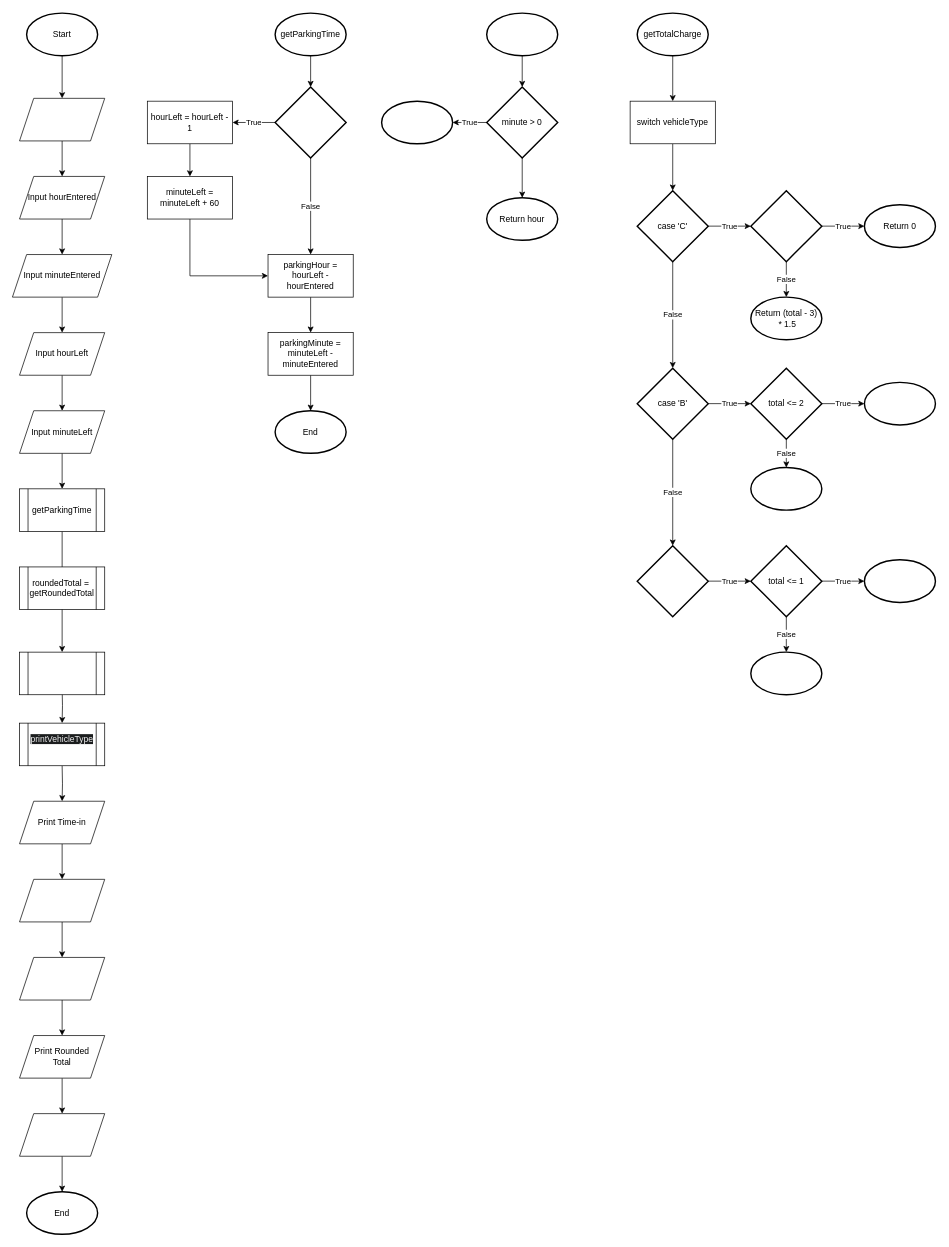
The diagram is 949 pixels wide and 1247 high, and some of its shapes have lost their labels. Here are the shapes that lost their labels. From the top down, the centre of each, then its label:
pixel 522 34: getRoundedTotal
pixel 62 119: Input vehicleType
pixel 310 122: minuteLeft < minuteEntered
pixel 417 122: Return hour + 1
pixel 786 226: total <= 3
pixel 899 403: Return 1
pixel 786 488: Return (total - 2) * 2.3
pixel 672 581: case 'T'
pixel 899 581: Return 2
pixel 62 673: totalCharge = getTotalCharge
pixel 786 673: Return (total -1) * 3.7
pixel 62 900: Print Time-out
pixel 62 978: Print Parking Time
pixel 62 1134: Print Total Charge
